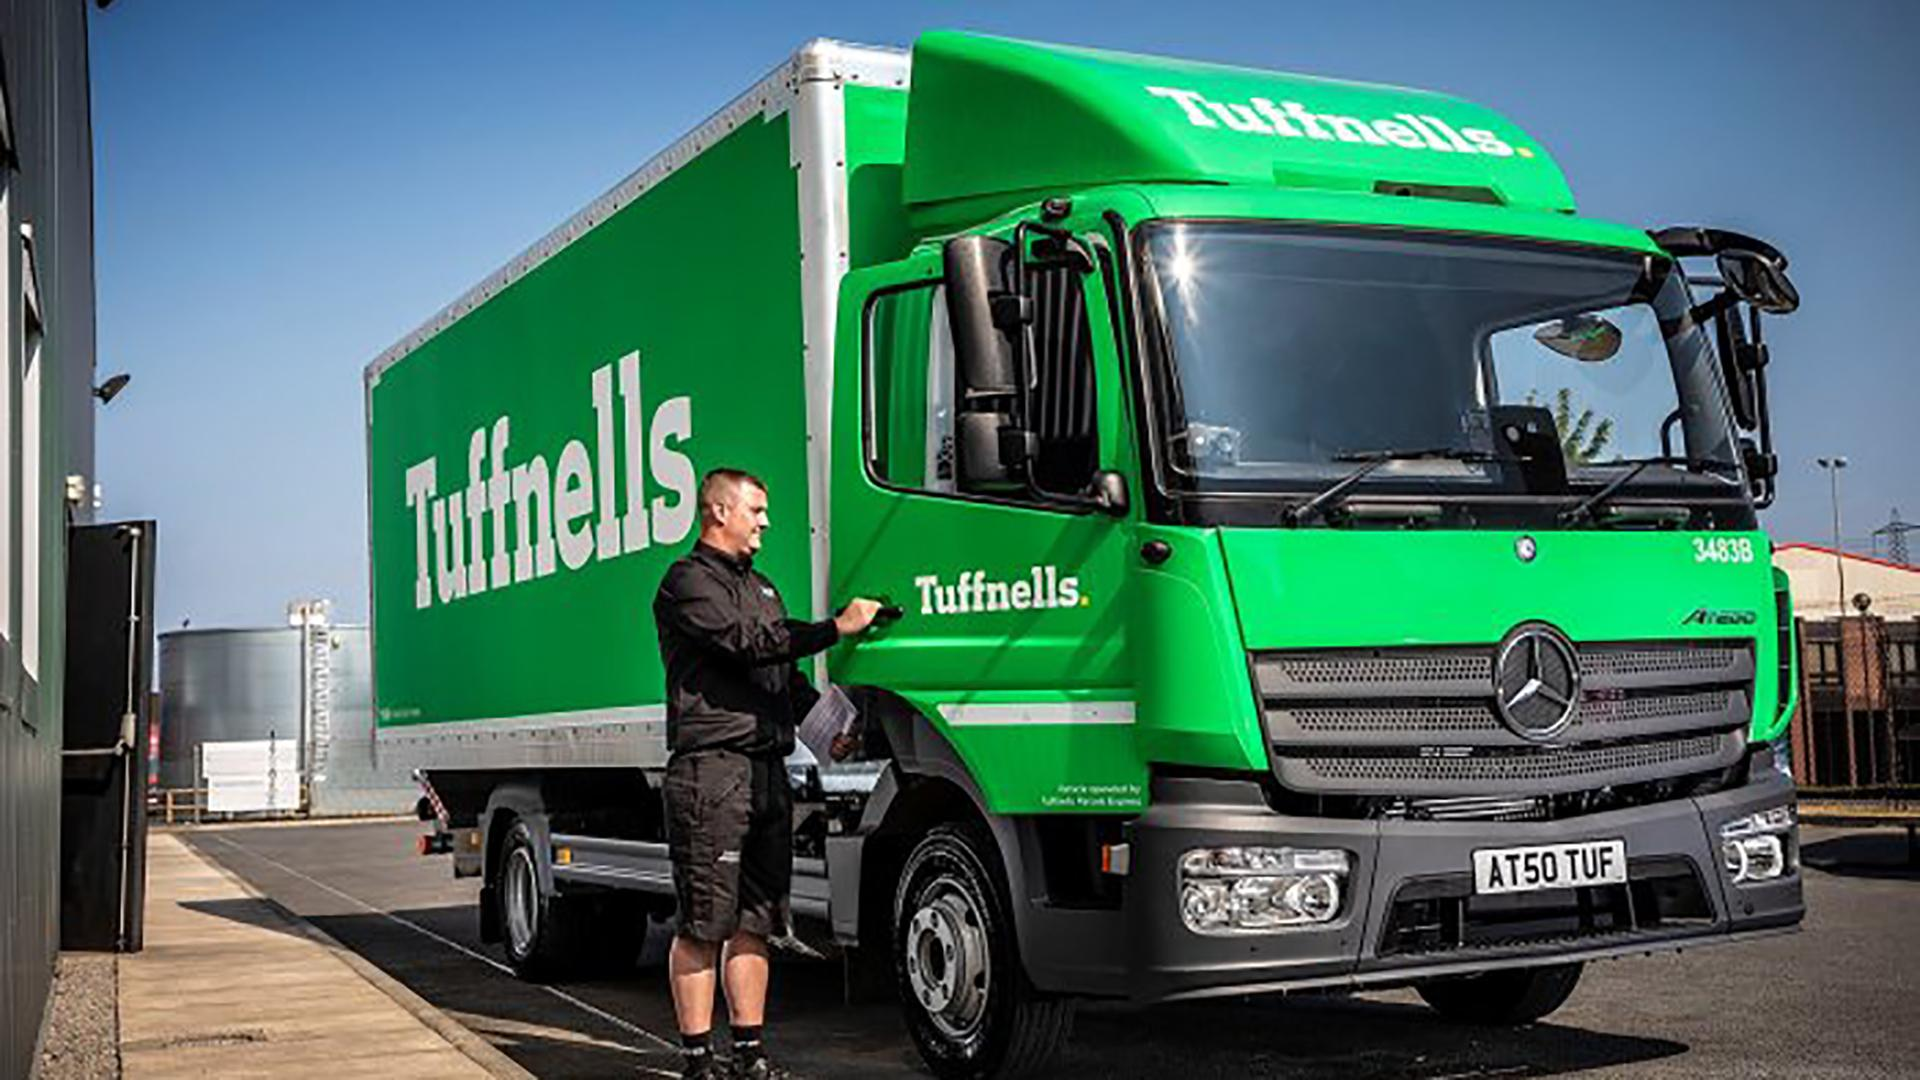truck: (363, 29, 1804, 1080)
